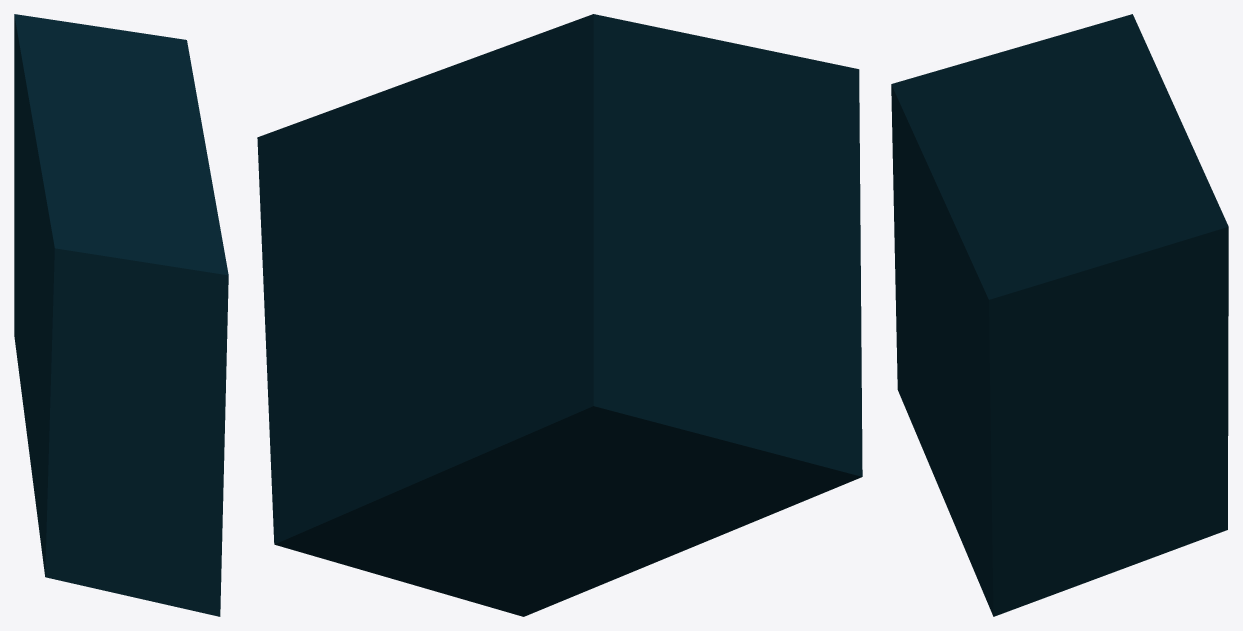
File: ARKSpaceStation.dae
The picture shows the model from 3 angles, left to right: view 1: azimuth 30°, elevation 25°; view 2: azimuth 150°, elevation 25°; view 3: azimuth 270°, elevation 25°; orthographic projection. The views are drawn at different scales.
Parts seen in each view (by area): view 1: pCube6; view 2: pCube6; view 3: pCube6.
Boxes of the visible parts, box(x1,y1,x2,y2) form: pCube6: box(14, 14, 228, 616); pCube6: box(257, 14, 862, 616); pCube6: box(891, 14, 1228, 616).
Size of the model in its own units: 1.02 by 1.77 by 0.9978.
